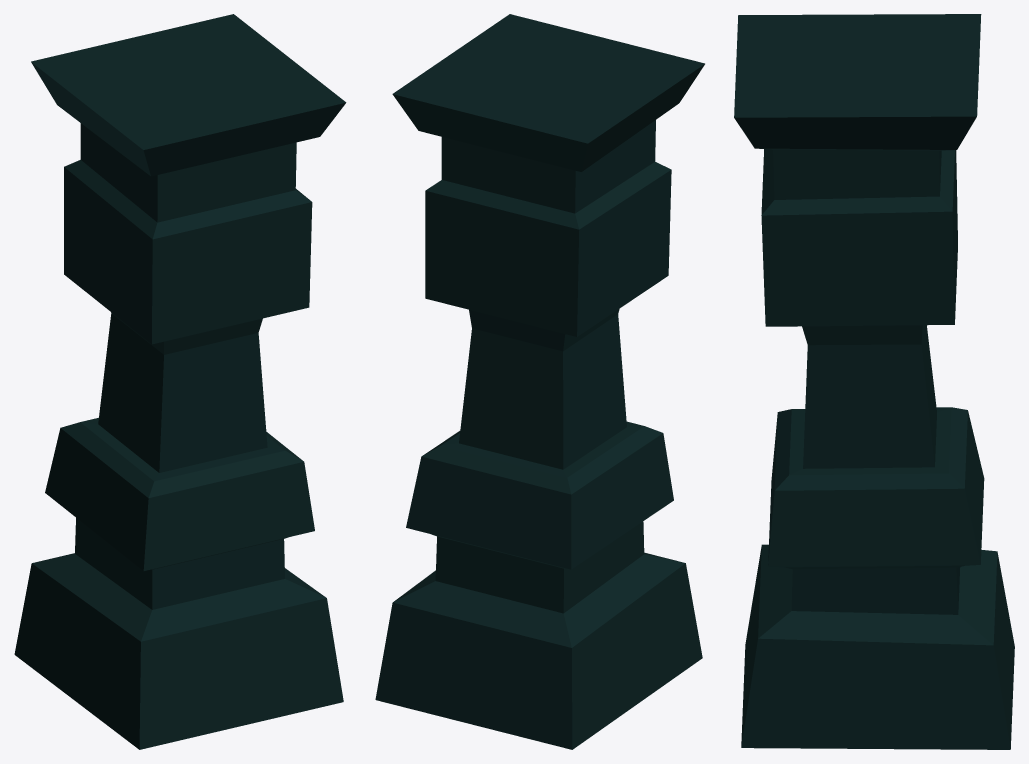
File: column002_stone_0.076_lev1.glb
The picture shows the model from 3 angles, left to right: view 1: azimuth 30°, elevation 25°; view 2: azimuth 150°, elevation 25°; view 3: azimuth 270°, elevation 25°; orthographic projection. The views are drawn at different scales.
Visible parts, largest first — view 1: column002_stone_0.076_lev1; view 2: column002_stone_0.076_lev1; view 3: column002_stone_0.076_lev1.
Part boxes in pixels (x1,y1,x2,y2): column002_stone_0.076_lev1: [14, 14, 346, 749]; column002_stone_0.076_lev1: [375, 14, 704, 749]; column002_stone_0.076_lev1: [734, 14, 1014, 749].
Bounding box in the file's own units: 0.5612 × 1.57 × 0.6331.
